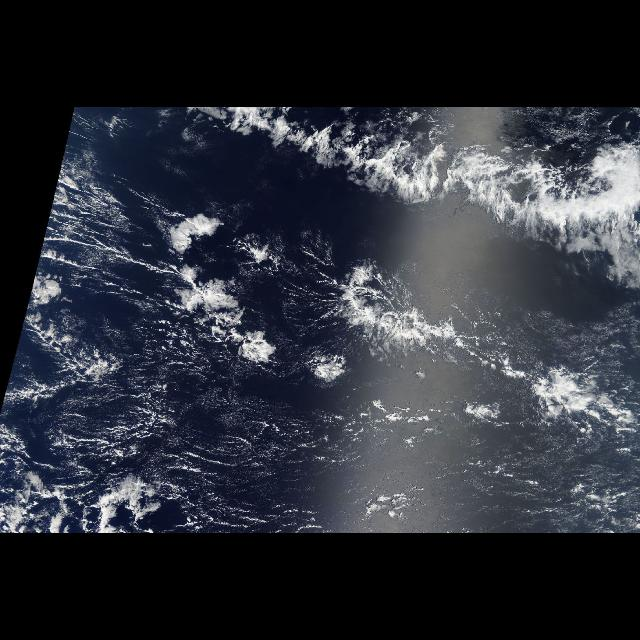Fish: (189, 107, 639, 363)
Sugar: (18, 379, 640, 533)
